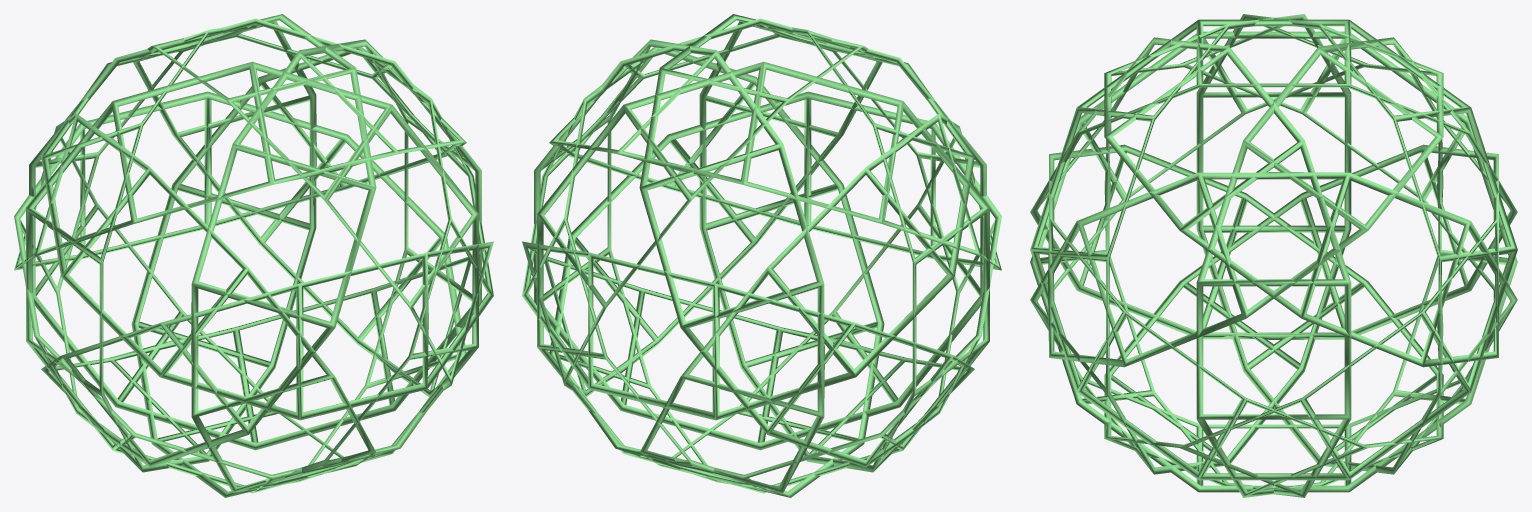
File: TruncatedDodecadodecahedron1.glb
The picture shows the model from 3 angles, left to right: view 1: azimuth 30°, elevation 25°; view 2: azimuth 150°, elevation 25°; view 3: azimuth 270°, elevation 25°; orthographic projection. The views are drawn at different scales.
Parts seen in each view (by area): view 1: TruncatedDodecadodecahedron; view 2: TruncatedDodecadodecahedron; view 3: TruncatedDodecadodecahedron.
Part boxes in pixels (bbox=[...]): TruncatedDodecadodecahedron: bbox=[14, 14, 493, 497]; TruncatedDodecadodecahedron: bbox=[522, 14, 1001, 497]; TruncatedDodecadodecahedron: bbox=[1030, 14, 1517, 497].
Bounding box in the file's own units: 3.28 × 3.28 × 3.28.
